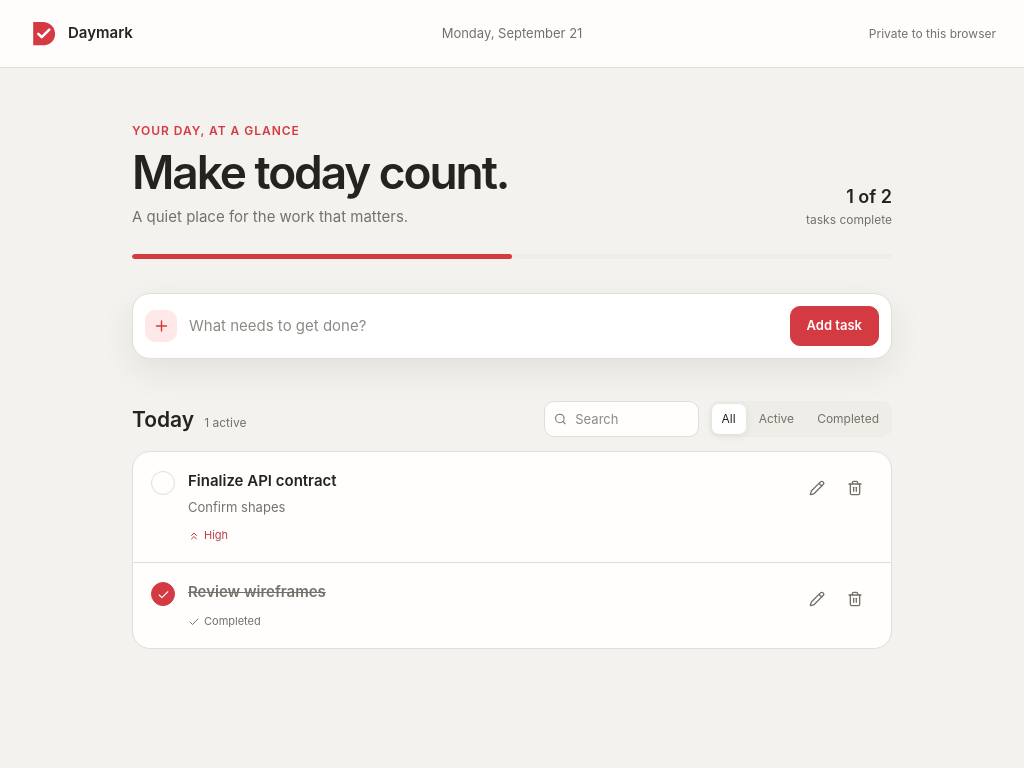
Scenario: App › requires confirmation before deleting
expect the heading "Finalize API contract" is shown: met, box left=188, top=471, right=337, bottom=490
What coordinates should you click on to do the following:
click the button named "Delete Finalize API contract"
I would click on:
 (855, 488)
Its box is left=837, top=470, right=873, bottom=506.
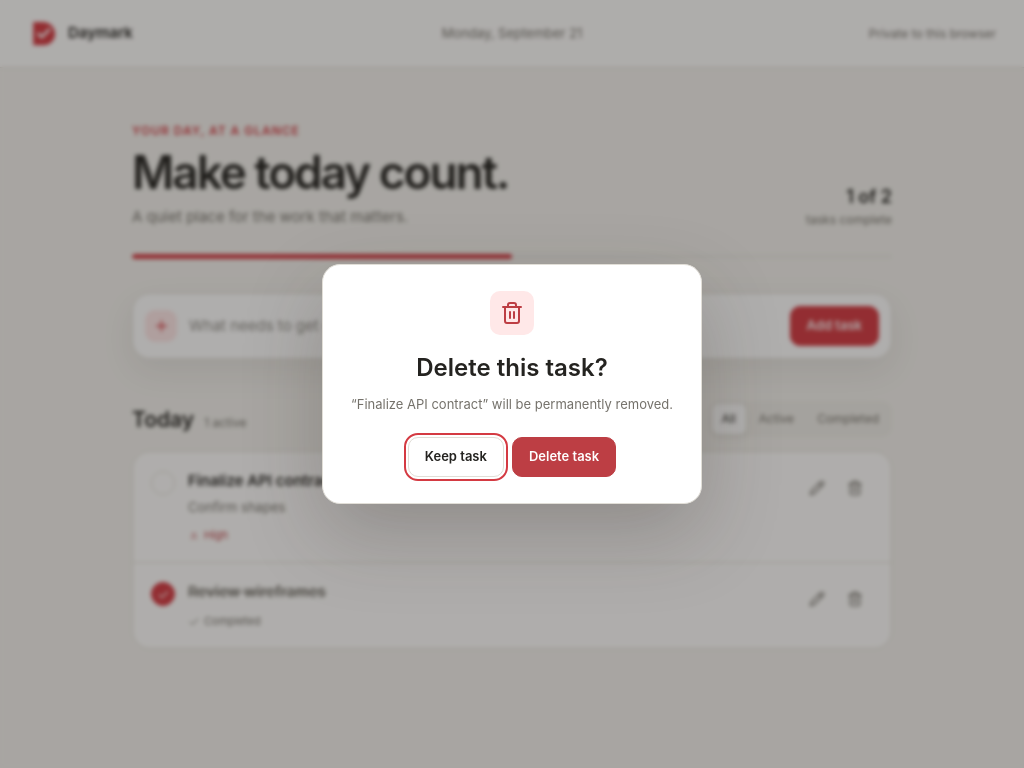
expect the dialog "Delete this task?" shows "Finalize API contract": met, box left=357, top=396, right=482, bottom=412
What coordinates should you click on to do the following:
click the button "Delete task"
I would click on:
 (564, 457)
Its box is left=512, top=437, right=616, bottom=477.
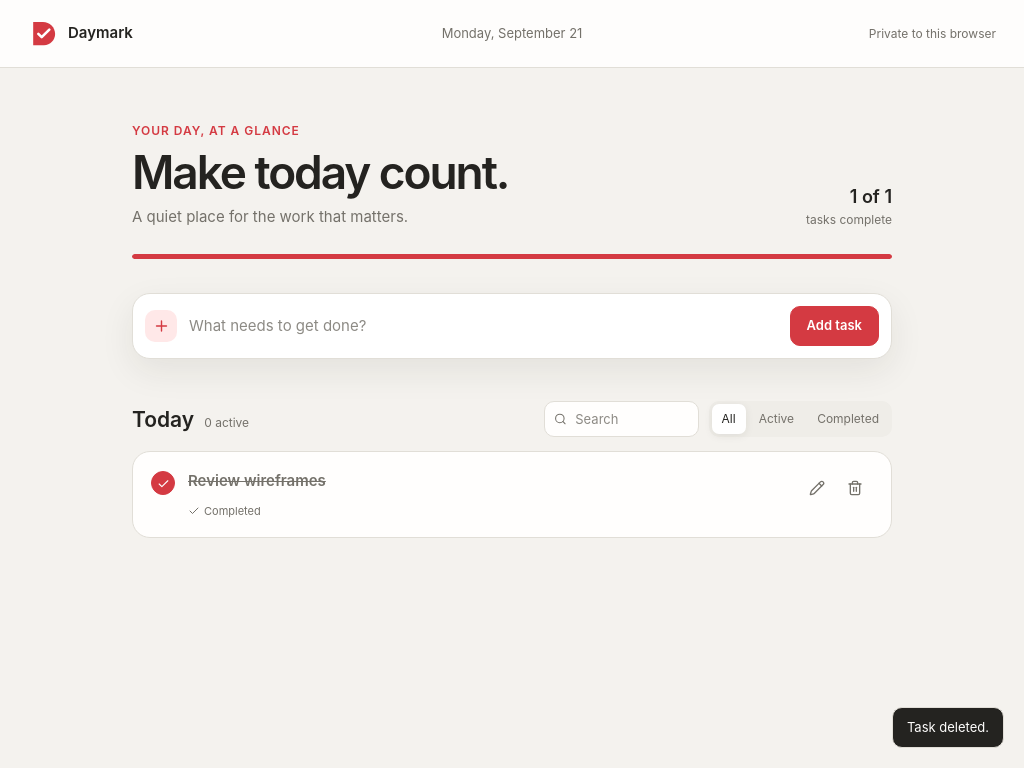
expect the heading "Finalize API contract" is gone: met
